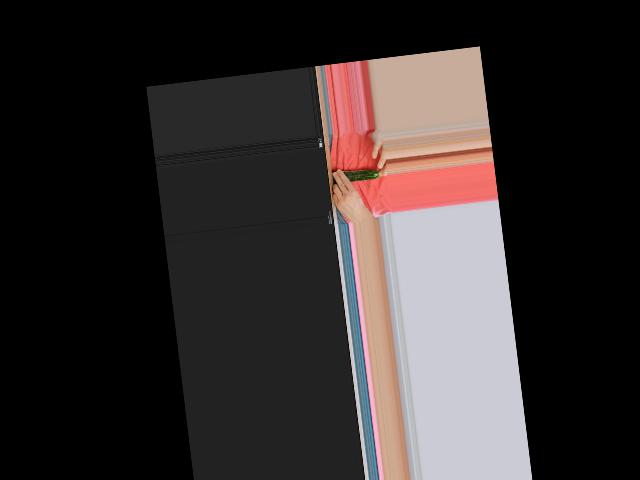cucumber: (342, 167, 379, 183)
